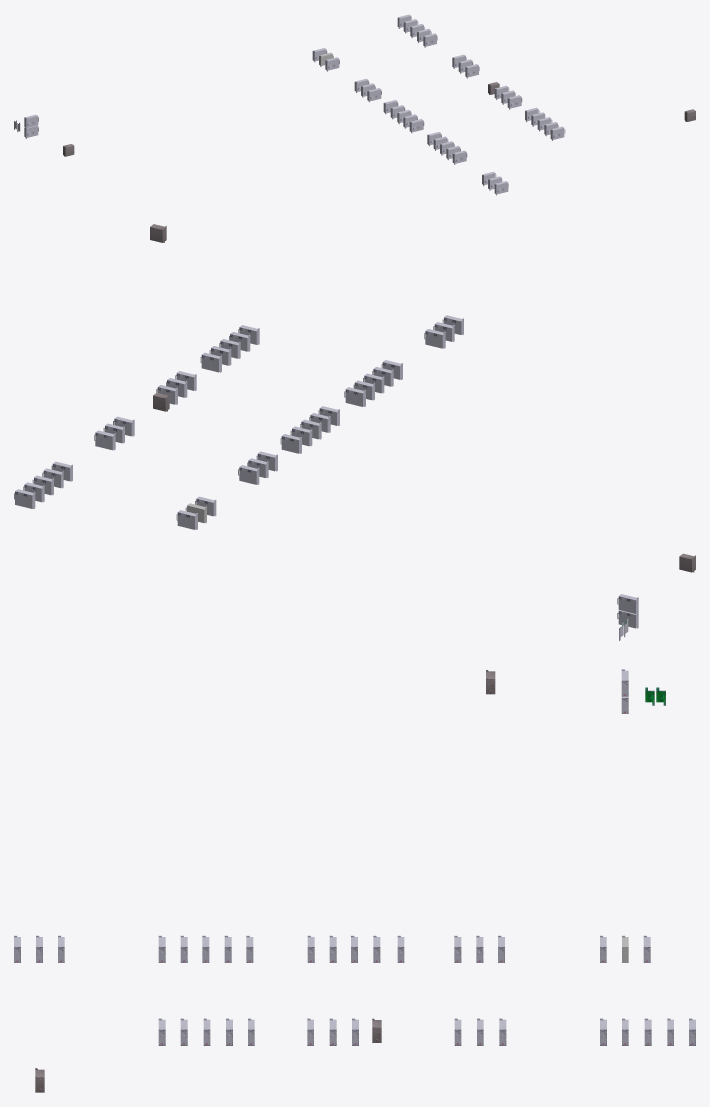
3 renders of one model, top to bottom at view 1: azimuth 30°, elevation 25°; view 2: azimuth 150°, elevation 25°; view 3: azimuth 270°, elevation 25°, orthographic. The views are drawn at different scales.
Visible parts, largest first — view 1: Box136; view 2: Box136; view 3: Box136.
Part boxes in pixels (x1=…): Box136: x1=14, y1=14, x2=695, y2=195; Box136: x1=14, y1=224, x2=695, y2=640; Box136: x1=14, y1=669, x2=695, y2=1092.
Bounding box in the file's own units: 614 × 35.86 × 418.
2 materials, 1 textured.
